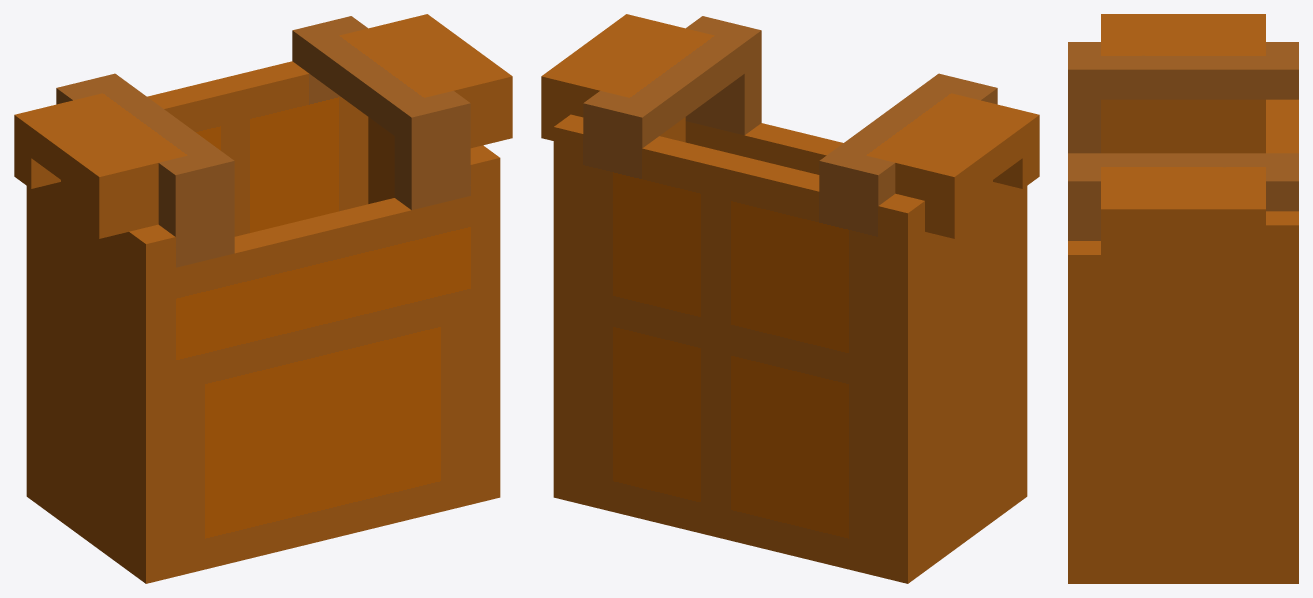
File: Bronze_Chestplate.fbx
The picture shows the model from 3 angles, left to right: view 1: azimuth 30°, elevation 25°; view 2: azimuth 150°, elevation 25°; view 3: azimuth 270°, elevation 25°; orthographic projection. The views are drawn at different scales.
Size of the model in its own units: 14 by 13 by 7.
1 material, 1 textured.
